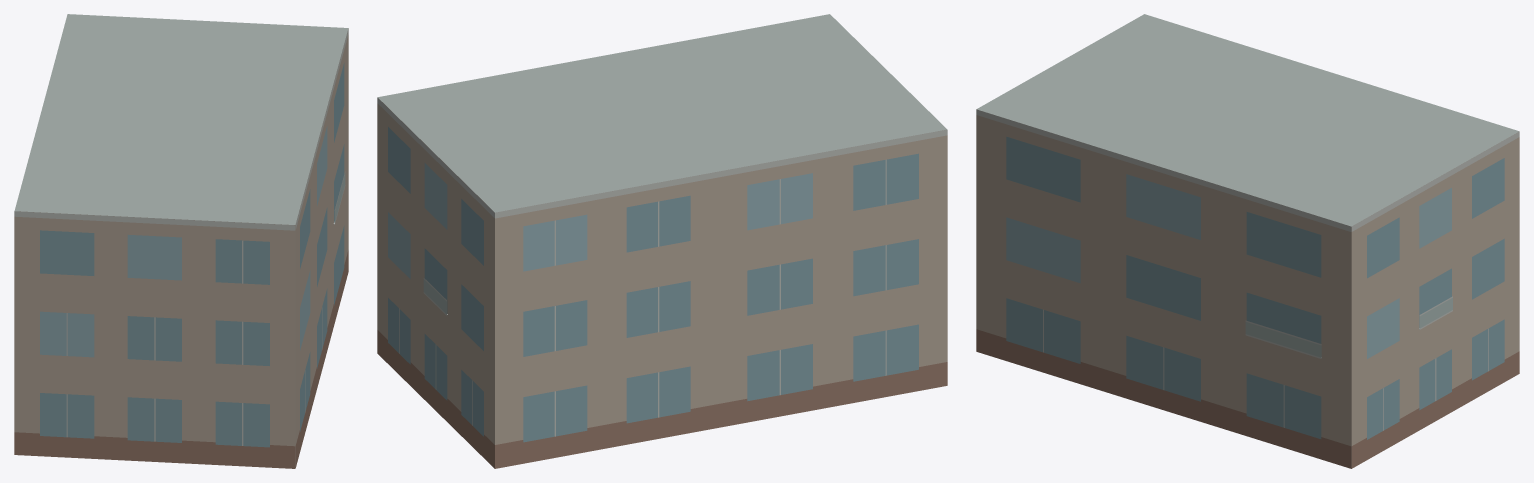
The model's file is survey-upis-32918018.glb.
3 renders of one model, left to right at view 1: azimuth 30°, elevation 25°; view 2: azimuth 150°, elevation 25°; view 3: azimuth 270°, elevation 25°, orthographic. The views are drawn at different scales.
Parts seen in each view (by area): view 1: survey-upis-32918018.tmp; view 2: survey-upis-32918018.tmp; view 3: survey-upis-32918018.tmp.
Boxes of the visible parts, x1,y1,x2,y2 form: survey-upis-32918018.tmp: [14, 14, 348, 468]; survey-upis-32918018.tmp: [377, 14, 947, 468]; survey-upis-32918018.tmp: [976, 14, 1519, 468].
Size of the model in its own units: 19.95 by 10.6 by 21.55.
